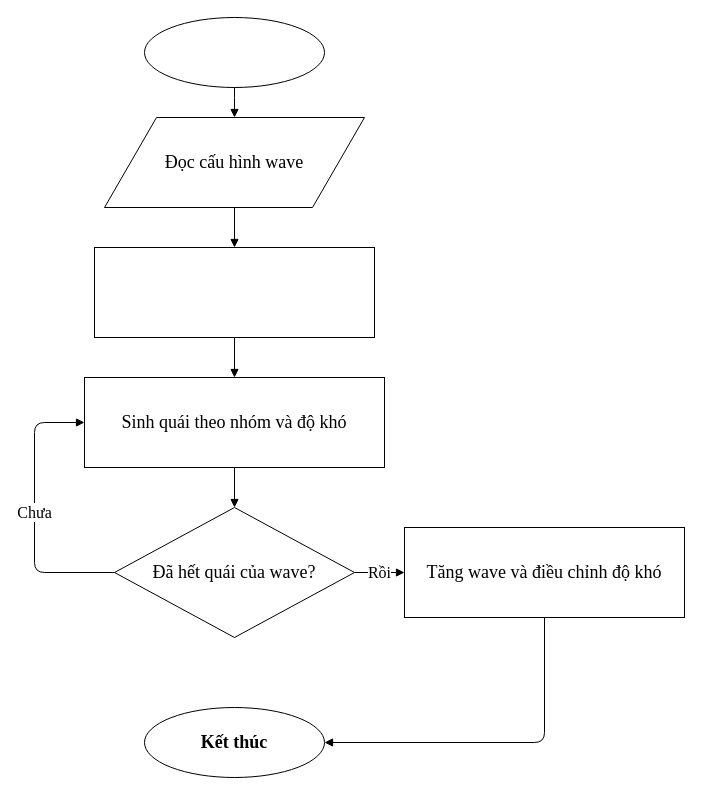
This 702x795 diagram has some shape labels left out. Each missing label, with the centre of its shape:
"Bắt đầu" goes at (x=234, y=52).
"Khởi tạo wave hiện tại" goes at (x=234, y=292).
